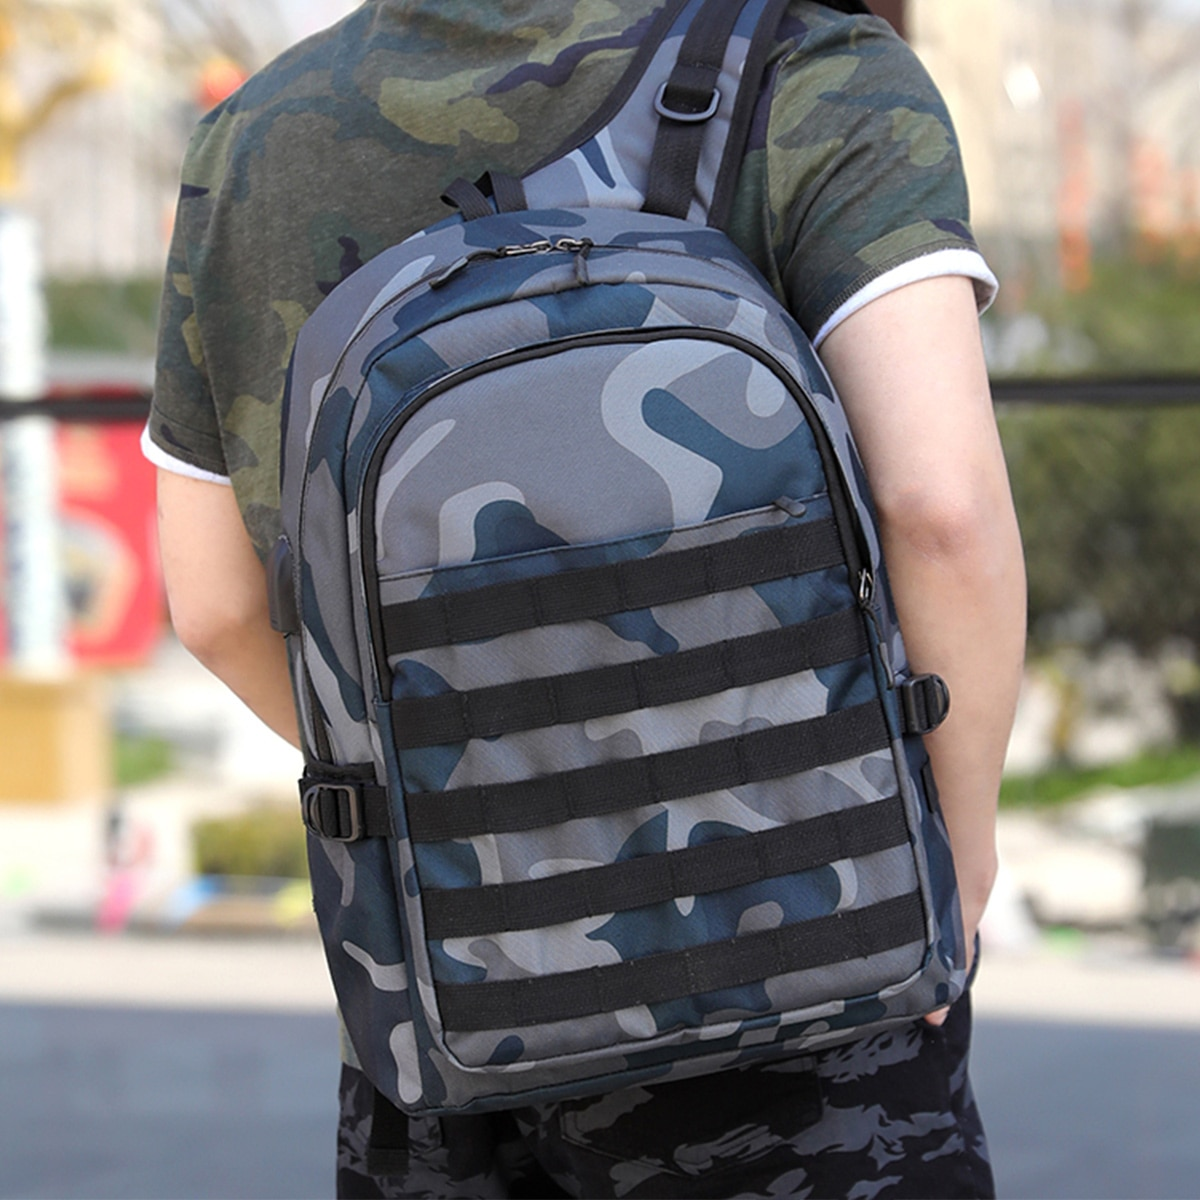Men's Backpacks: (284, 210, 971, 1119)
Tops|T-shirts & Tanks: (136, 1, 1005, 494)
